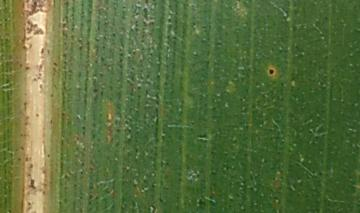tarspot: (266, 65, 277, 78)
